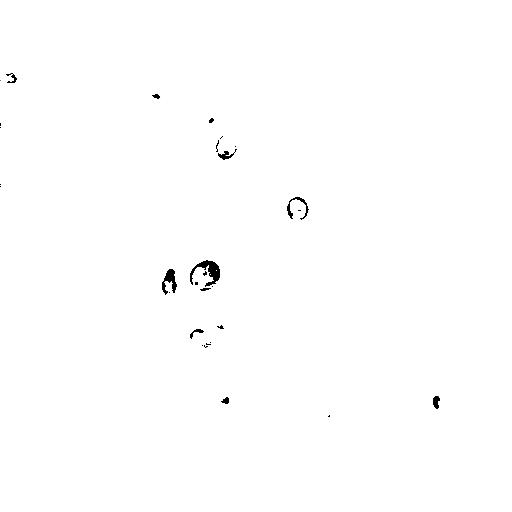micro-algae: (446, 3, 508, 64), (211, 383, 252, 427), (189, 258, 223, 294), (156, 252, 185, 287), (214, 131, 240, 163), (274, 169, 297, 199), (287, 196, 310, 225), (189, 328, 214, 354), (427, 390, 449, 417), (161, 267, 180, 298), (203, 112, 218, 127), (2, 72, 18, 84)
